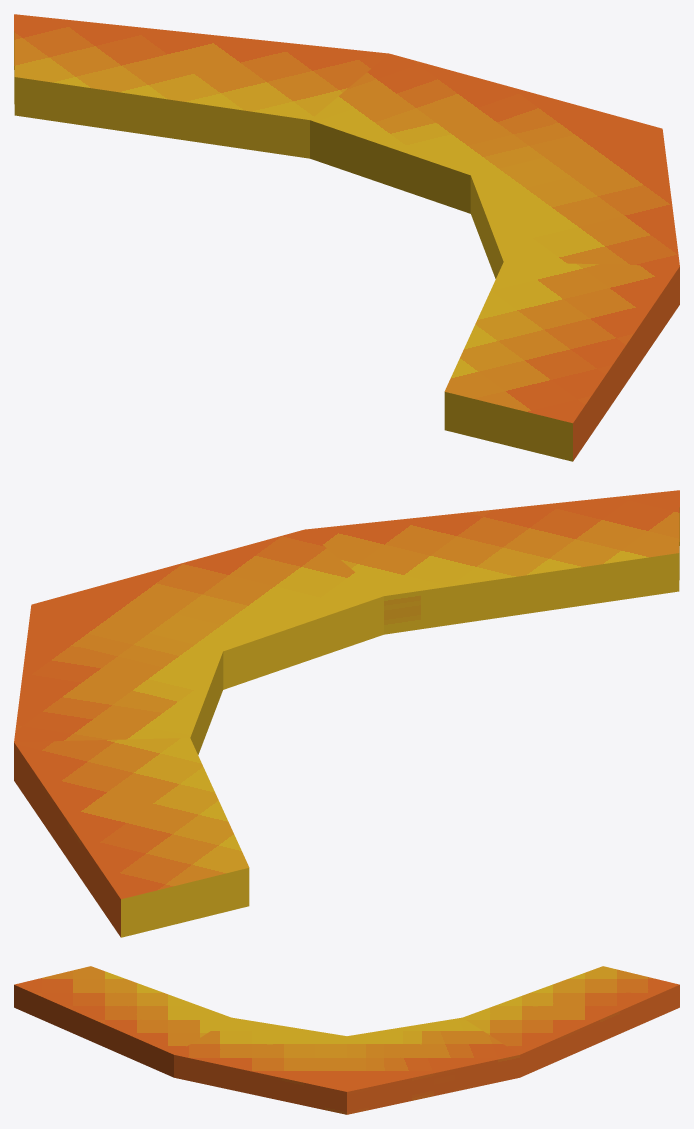
3 views of the same model, one above another, from view 1: azimuth 30°, elevation 25°; view 2: azimuth 150°, elevation 25°; view 3: azimuth 270°, elevation 25° (orthographic). The views are drawn at different scales.
Visible parts, largest first — view 1: cube; view 2: cube; view 3: cube.
Part boxes in pixels (left/top/right/bottom): cube: left=14, top=14, right=679, bottom=461; cube: left=14, top=490, right=679, bottom=937; cube: left=14, top=966, right=679, bottom=1114.
Size of the model in its own units: 0.0736 by 0.00625 by 0.1645.
1 material, 1 textured.
